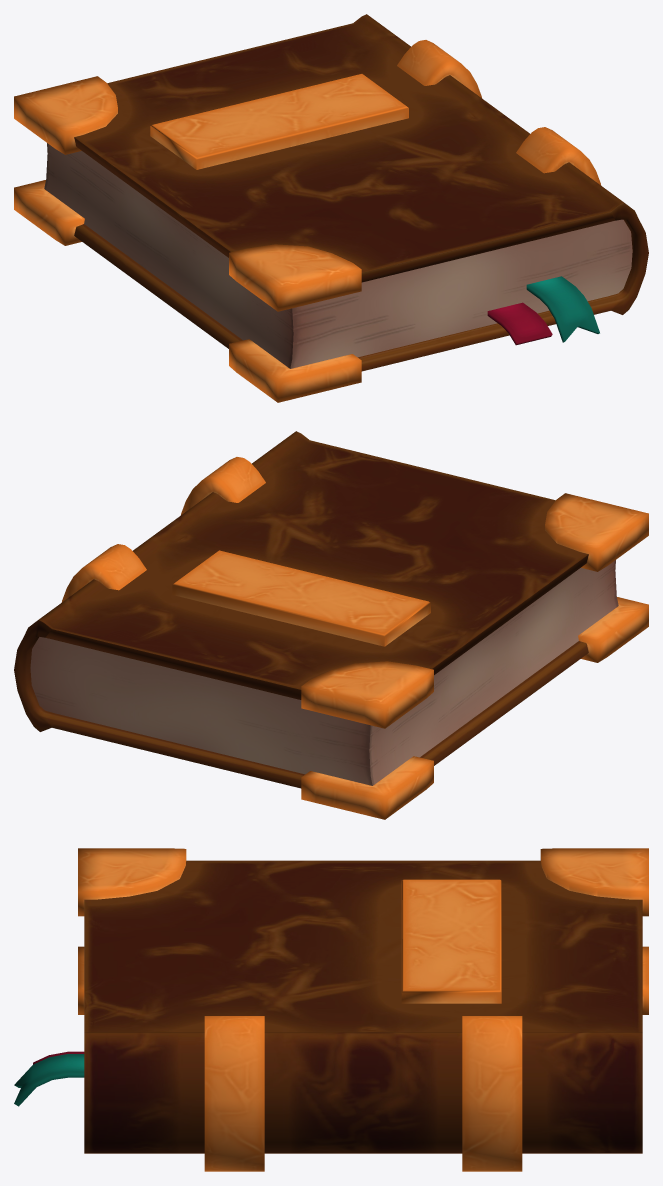
File: Kitob (2).fbx
The picture shows the model from 3 angles, top to bottom: view 1: azimuth 30°, elevation 25°; view 2: azimuth 150°, elevation 25°; view 3: azimuth 270°, elevation 25°; orthographic projection. The views are drawn at different scales.
Parts seen in each view (by area): view 1: defaultMaterial.004, defaultMaterial, defaultMaterial.001, defaultMaterial.002, defaultMaterial.005, defaultMaterial.003; view 2: defaultMaterial.004, defaultMaterial, defaultMaterial.001, defaultMaterial.002; view 3: defaultMaterial.004, defaultMaterial.002, defaultMaterial.001, defaultMaterial, defaultMaterial.005.
Boxes of the visible parts, bbox=[...] form: defaultMaterial.004: bbox=[44, 14, 648, 371]; defaultMaterial: bbox=[14, 76, 361, 402]; defaultMaterial.001: bbox=[150, 74, 408, 169]; defaultMaterial.002: bbox=[397, 40, 601, 185]; defaultMaterial.005: bbox=[526, 276, 599, 342]; defaultMaterial.003: bbox=[487, 302, 552, 345]; defaultMaterial.004: bbox=[14, 431, 618, 788]; defaultMaterial: bbox=[301, 493, 648, 819]; defaultMaterial.001: bbox=[172, 550, 430, 646]; defaultMaterial.002: bbox=[61, 457, 265, 602]; defaultMaterial.004: bbox=[84, 860, 642, 1153]; defaultMaterial.002: bbox=[204, 1016, 522, 1171]; defaultMaterial.001: bbox=[401, 879, 501, 1003]; defaultMaterial: bbox=[78, 848, 648, 1014]; defaultMaterial.005: bbox=[14, 1054, 84, 1106].
Bounding box in the file's own units: 51.39 × 17.98 × 67.79.
